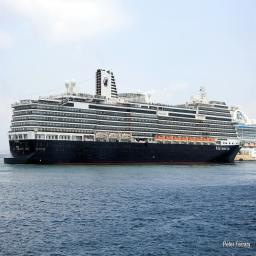cruises: (6, 66, 249, 170)
